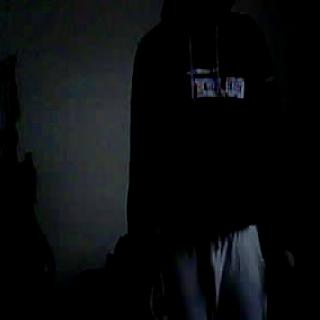Waterloo Hoodie: (133, 6, 294, 228)
White Sweatpants: (161, 229, 271, 320)
